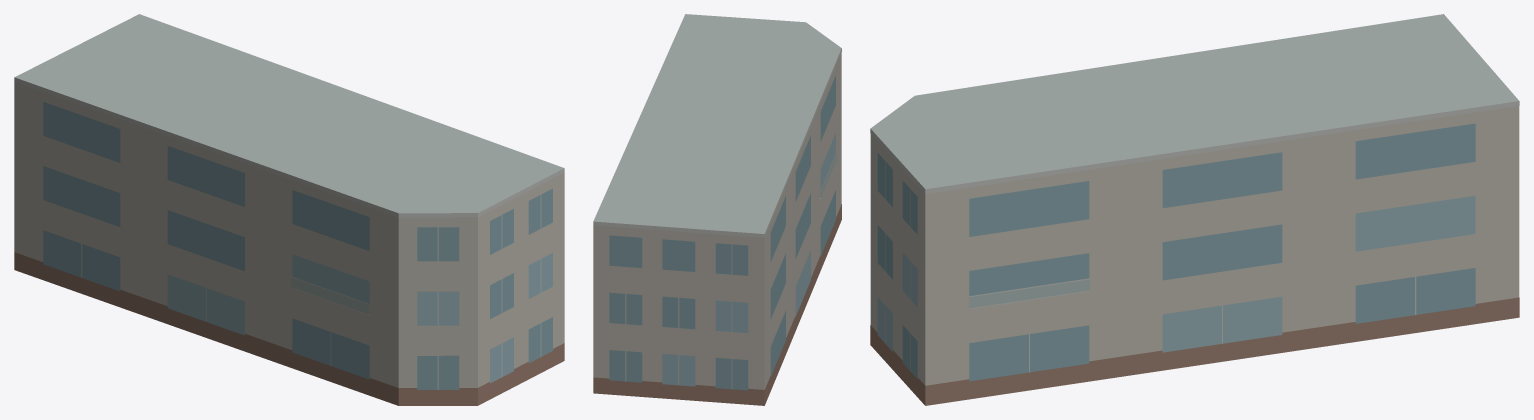
Rendered from survey-upis-32865233.glb.
3 renders of one model, left to right at view 1: azimuth 30°, elevation 25°; view 2: azimuth 150°, elevation 25°; view 3: azimuth 270°, elevation 25°, orthographic. The views are drawn at different scales.
Parts seen in each view (by area): view 1: survey-upis-32865233.tmp; view 2: survey-upis-32865233.tmp; view 3: survey-upis-32865233.tmp.
Part boxes in pixels (<box>): survey-upis-32865233.tmp: <box>14,14,564,405</box>; survey-upis-32865233.tmp: <box>593,14,841,405</box>; survey-upis-32865233.tmp: <box>870,14,1519,405</box>.
Size of the model in its own units: 18.76 by 10.8 by 29.34.
